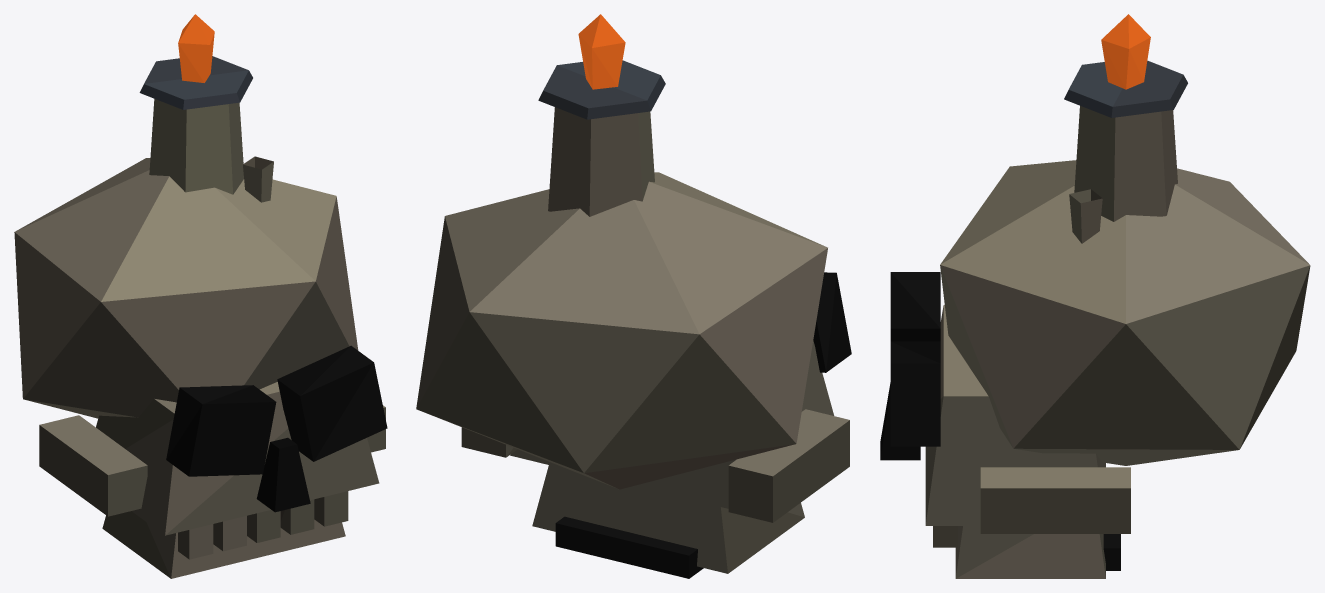
File: skull_candle.gltf
3 views of the same model, side by side, from view 1: azimuth 30°, elevation 25°; view 2: azimuth 150°, elevation 25°; view 3: azimuth 270°, elevation 25° (orthographic). The views are drawn at different scales.
Visible parts, largest first — view 1: skull_candle; view 2: skull_candle; view 3: skull_candle.
Part boxes in pixels (x1,y1,x2,y2): skull_candle: [14, 14, 387, 578]; skull_candle: [416, 14, 851, 578]; skull_candle: [880, 14, 1310, 578].
Size of the model in its own units: 0.7903 by 1.17 by 0.8581.
Materials: 2 (2 with a texture image).
